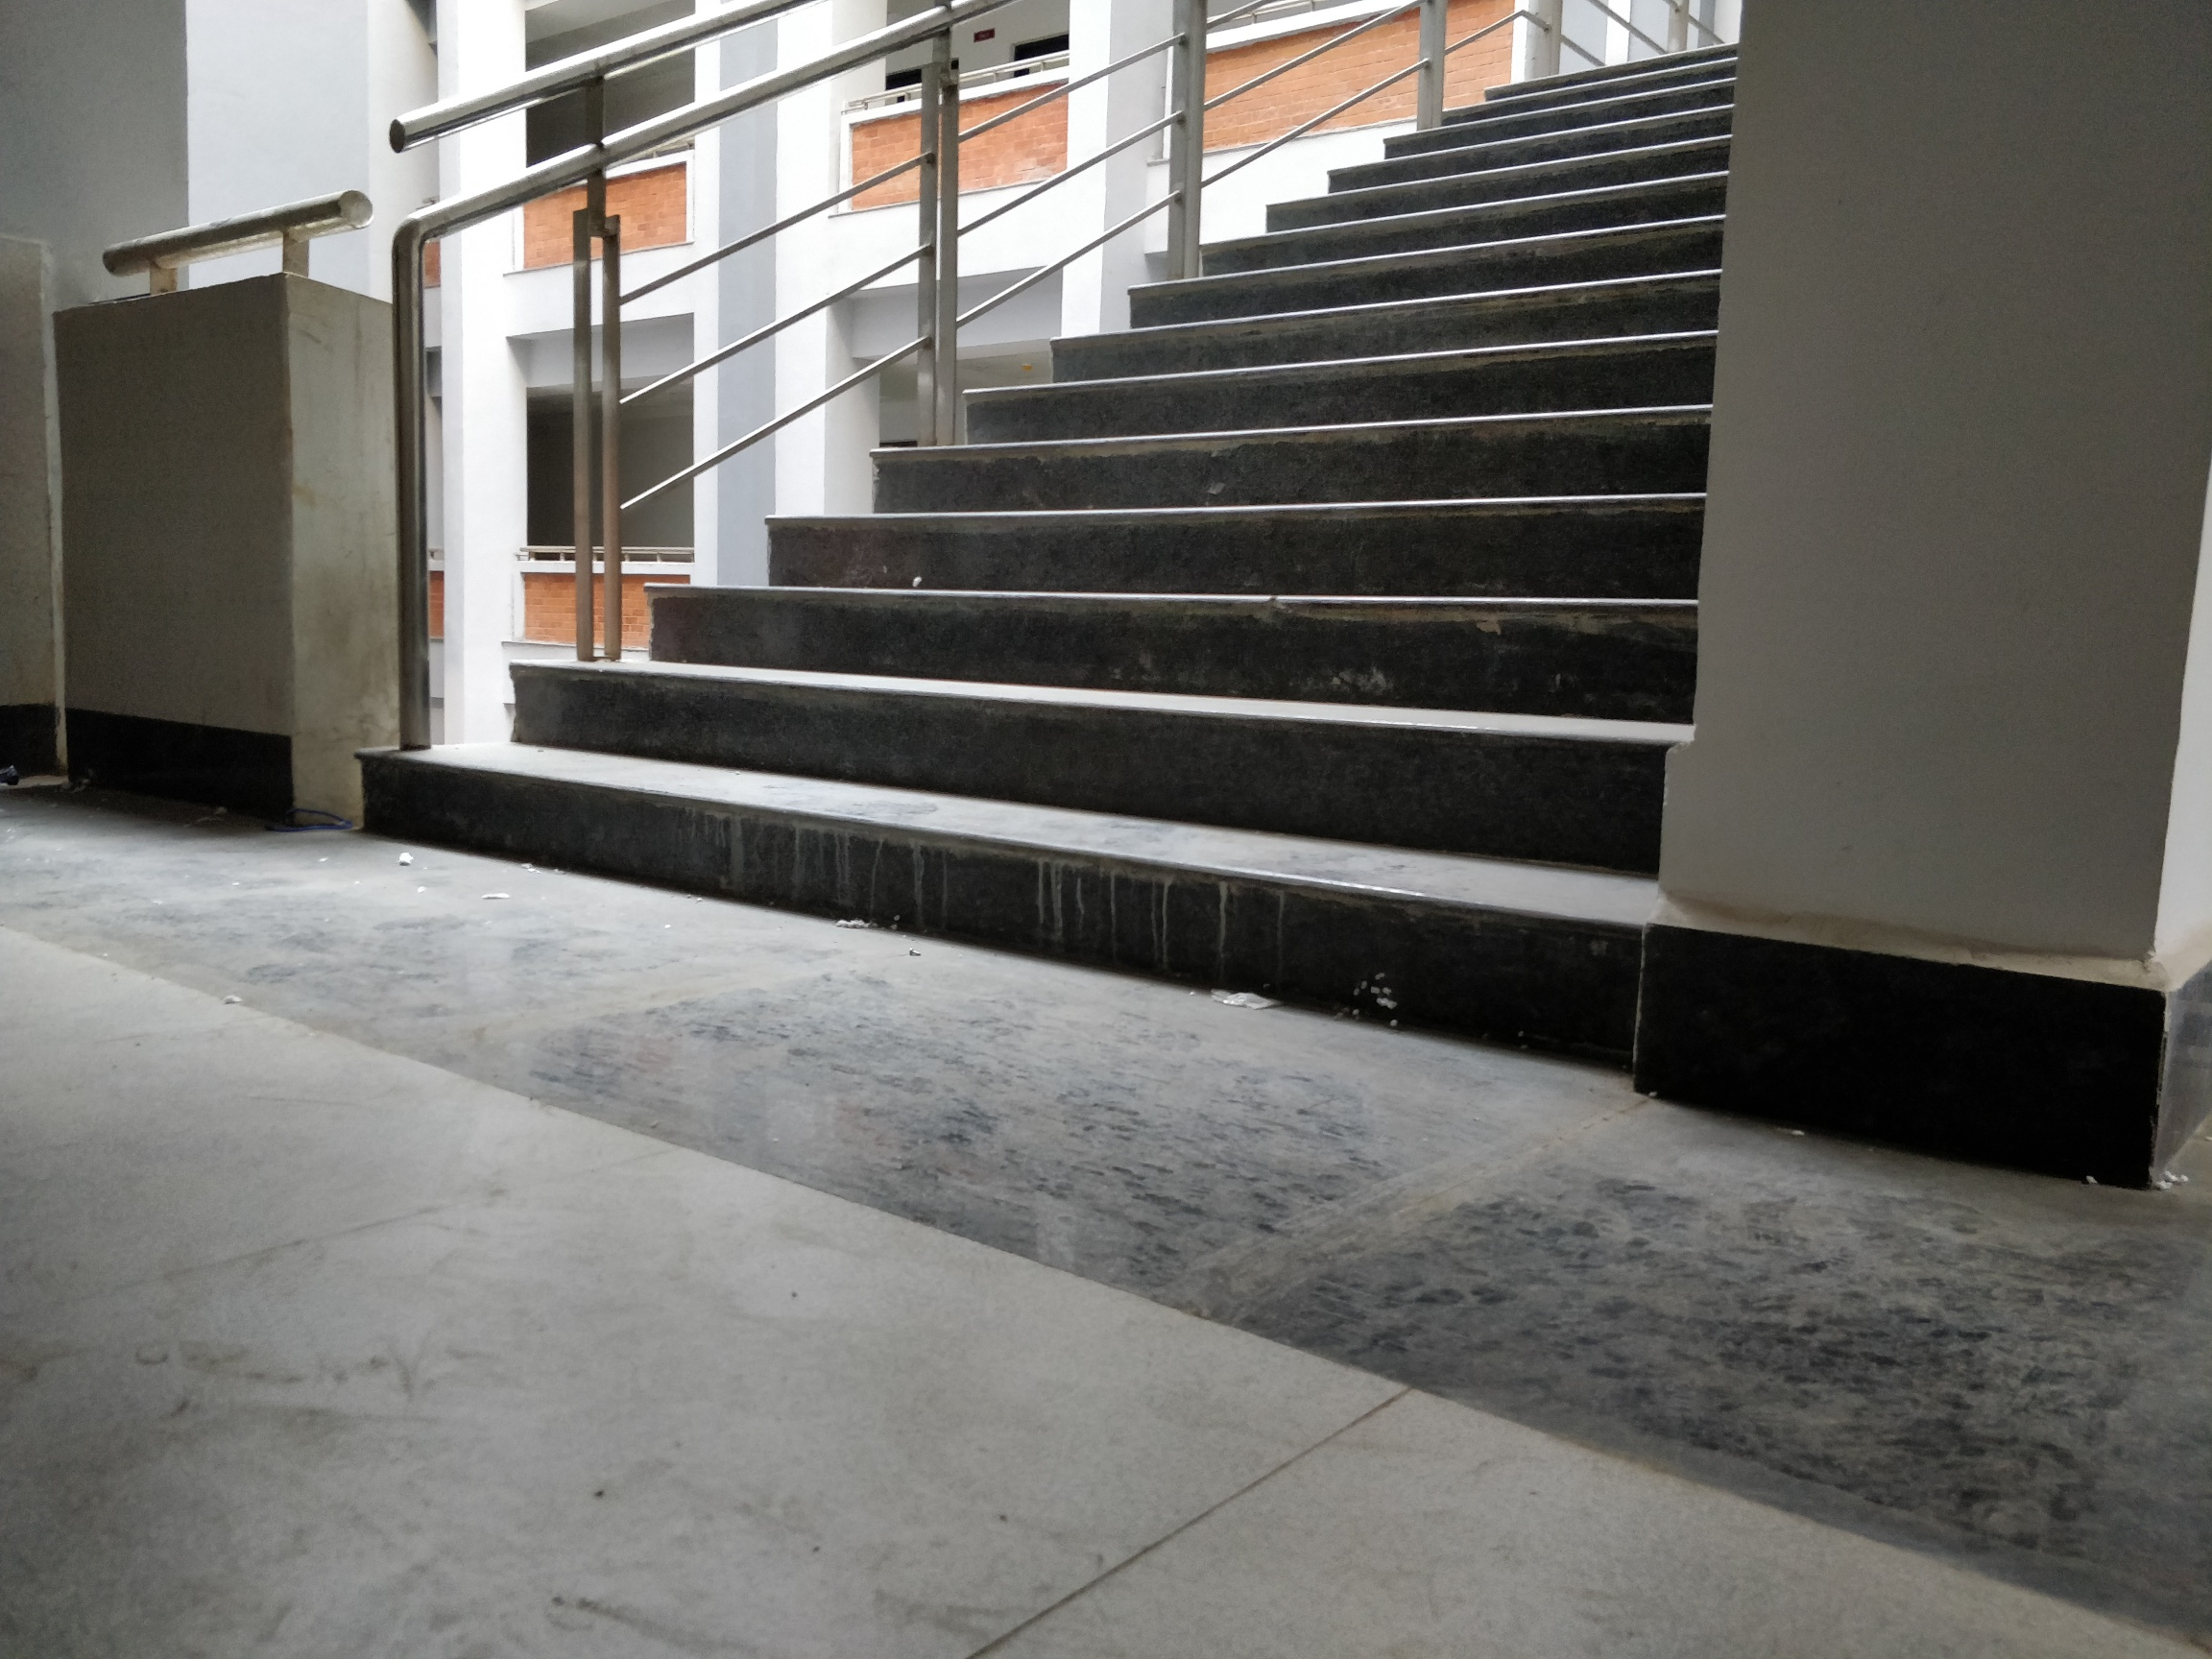stairs_up: (474, 49, 1737, 985)
